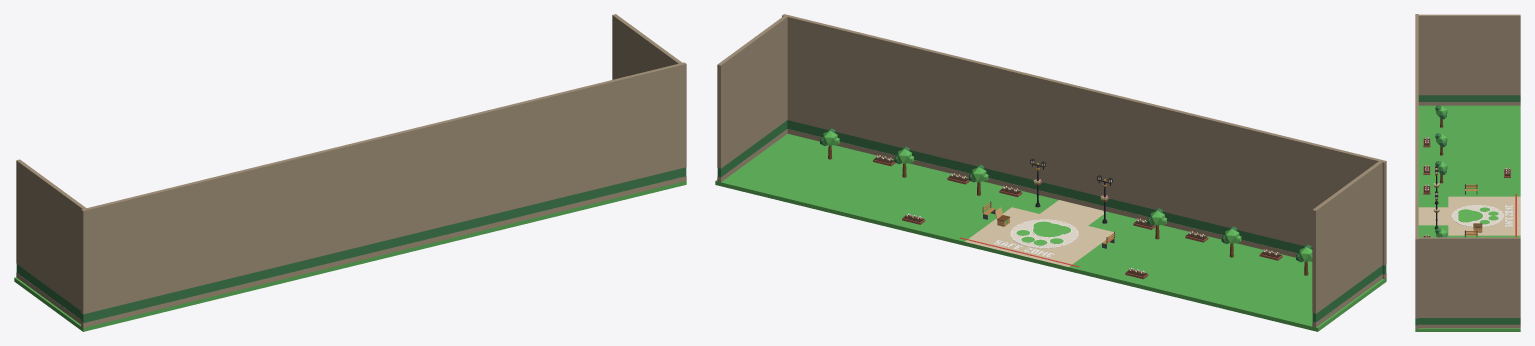
Rendered from CatCafe_Camp_Park.glb.
The picture shows the model from 3 angles, left to right: view 1: azimuth 30°, elevation 25°; view 2: azimuth 150°, elevation 25°; view 3: azimuth 270°, elevation 25°; orthographic projection. The views are drawn at different scales.
Parts seen in each view (by area): view 1: CatCafe_Camp_Park_Barrier, CatCafe_Camp_Park; view 2: CatCafe_Camp_Park_Barrier, CatCafe_Camp_Park; view 3: CatCafe_Camp_Park_Barrier, CatCafe_Camp_Park, CatCafe_Camp_Park_005_Tree, CatCafe_Camp_Park_004_Tree, CatCafe_Camp_Park_003_Tree, CatCafe_Camp_Park_012_Tree, CatCafe_Camp_Park_001_Bench, CatCafe_Camp_Park_011_Lamp, CatCafe_Camp_Park_000_Basket.
Part boxes in pixels (x1,y1,x2,y2): CatCafe_Camp_Park_Barrier: [16, 14, 686, 314]; CatCafe_Camp_Park: [14, 167, 686, 331]; CatCafe_Camp_Park_Barrier: [717, 14, 1386, 313]; CatCafe_Camp_Park: [715, 120, 1386, 331]; CatCafe_Camp_Park_Barrier: [1415, 14, 1520, 318]; CatCafe_Camp_Park: [1415, 95, 1520, 331]; CatCafe_Camp_Park_005_Tree: [1435, 105, 1447, 127]; CatCafe_Camp_Park_004_Tree: [1435, 133, 1447, 155]; CatCafe_Camp_Park_003_Tree: [1435, 161, 1447, 183]; CatCafe_Camp_Park_012_Tree: [1435, 228, 1447, 237]; CatCafe_Camp_Park_001_Bench: [1464, 184, 1477, 194]; CatCafe_Camp_Park_011_Lamp: [1433, 191, 1439, 229]; CatCafe_Camp_Park_000_Basket: [1473, 223, 1482, 232].
Size of the model in its own units: 162 by 31 by 32.
Materials: 1 (1 with a texture image).
